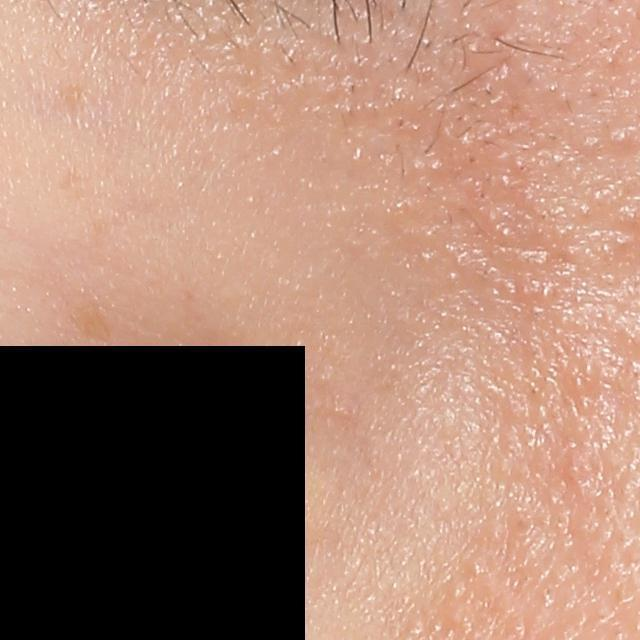comedo: (604, 126, 629, 151)
melasma: (67, 287, 120, 346)
